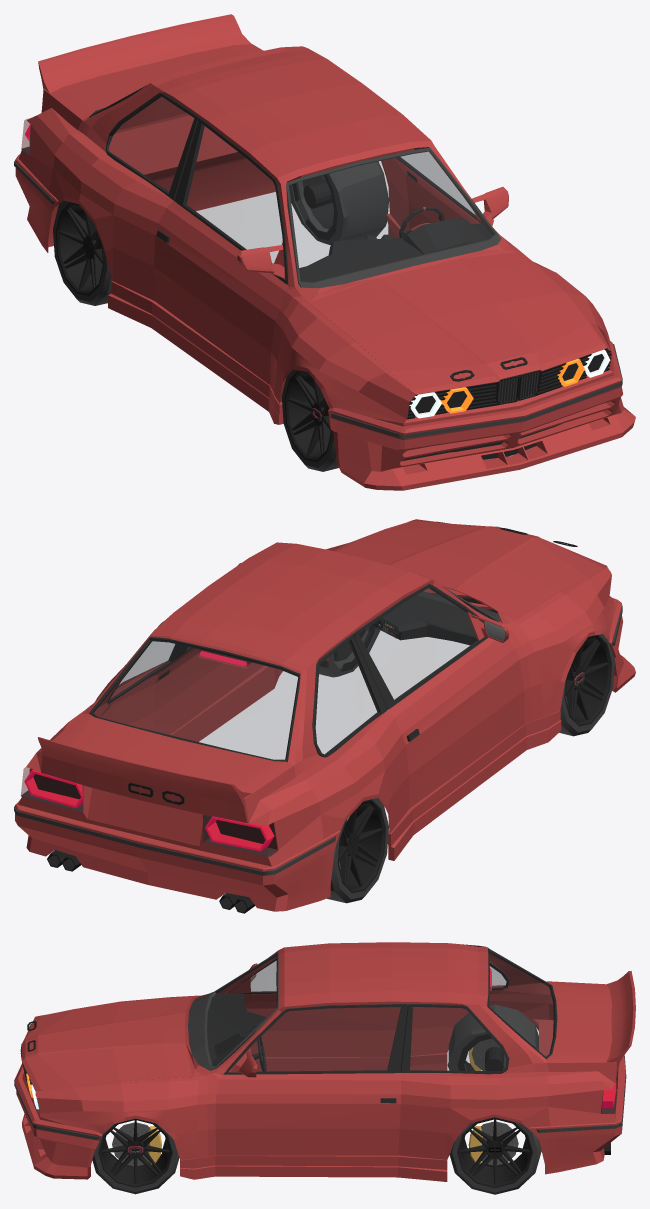
The model's file is Car1.fbx.
3 views of the same model, one above another, from view 1: azimuth 30°, elevation 25°; view 2: azimuth 150°, elevation 25°; view 3: azimuth 270°, elevation 25° (orthographic). The views are drawn at different scales.
Visible parts, largest first — view 1: pPlane1, pCube25, polySurface45, polySurface2, polySurface1, pPlane3, pCube18, pCube31, pPlane8, pCube30, polySurface3, pCube23 (+19 smaller); view 2: pCube25, polySurface1, polySurface2, polySurface46, pPlane1, pCube31, pCube23, pPlane3, pCube21, pPlane8, pPlane9, polySurface54 (+13 smaller); view 3: polySurface2, polySurface1, pCube25, pPlane1, pPlane3, pPlane8, pCube21, pCube23, pPlane9, polySurface45, polySurface46, polySurface60 (+22 smaller).
Boxes of the visible parts, x1,y1,x2,y2 form: pPlane1: (296, 237, 606, 394); pCube25: (78, 46, 434, 185); polySurface45: (289, 151, 493, 281); polySurface2: (154, 162, 502, 384); polySurface1: (18, 108, 409, 300); pPlane3: (270, 238, 613, 426); pCube18: (333, 367, 635, 490); pCube31: (15, 115, 275, 252); pPlane8: (184, 125, 475, 262); pCube30: (38, 14, 251, 93); polySurface3: (328, 341, 622, 450); pCube23: (41, 44, 263, 130); pCube25: (83, 542, 434, 776); polySurface1: (18, 661, 409, 866); polySurface2: (153, 637, 524, 808); polySurface46: (93, 640, 298, 759); pPlane1: (338, 519, 607, 623); pCube31: (15, 799, 340, 911); pCube23: (41, 713, 295, 823); pPlane3: (325, 523, 613, 723); pCube21: (170, 665, 561, 860); pPlane8: (359, 588, 478, 700); pPlane9: (109, 641, 378, 753); polySurface54: (327, 798, 388, 903); polySurface2: (215, 993, 401, 1155); polySurface1: (398, 985, 617, 1159); pCube25: (278, 942, 550, 1073); pPlane1: (21, 993, 212, 1090); pPlane3: (22, 995, 222, 1160); pPlane8: (251, 961, 400, 1071); pCube21: (180, 1053, 447, 1181); pCube23: (547, 981, 619, 1082); pPlane9: (410, 967, 506, 1071); polySurface45: (207, 955, 276, 1066); polySurface46: (489, 951, 554, 1055); polySurface60: (92, 1118, 179, 1194).
Bounding box in the file's own units: 1.79 × 1.29 × 4.22.
